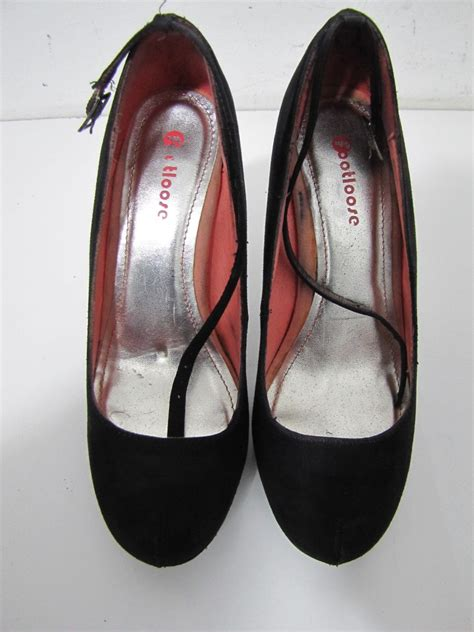gamuza: (87, 383, 418, 569)
